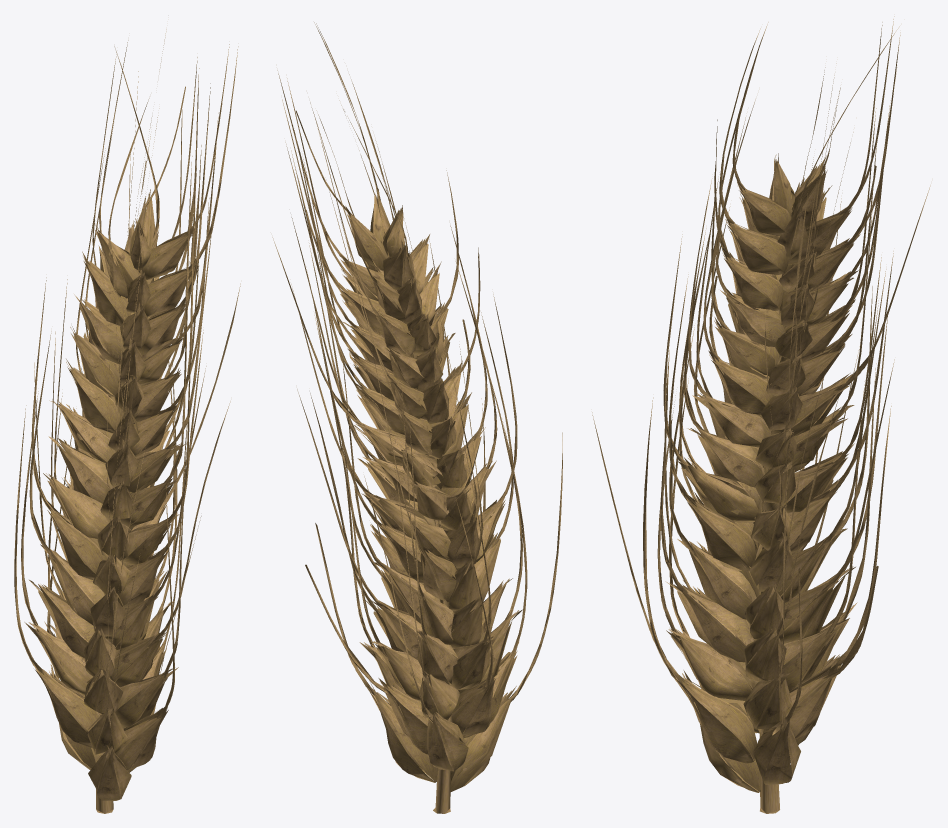
File: WHEAT_spin.fbx
3 views of the same model, side by side, from view 1: azimuth 30°, elevation 25°; view 2: azimuth 150°, elevation 25°; view 3: azimuth 270°, elevation 25° (orthographic). The views are drawn at different scales.
Visible parts, largest first — view 1: WHEAT_spin; view 2: WHEAT_spin; view 3: WHEAT_spin.
Boxes of the visible parts, x1,y1,x2,y2 form: WHEAT_spin: (14,29,240,813); WHEAT_spin: (272,22,562,813); WHEAT_spin: (592,16,930,813).
Bounding box in the file's own units: 22.57 × 78.65 × 28.35.
Materials: 1 (1 with a texture image).
